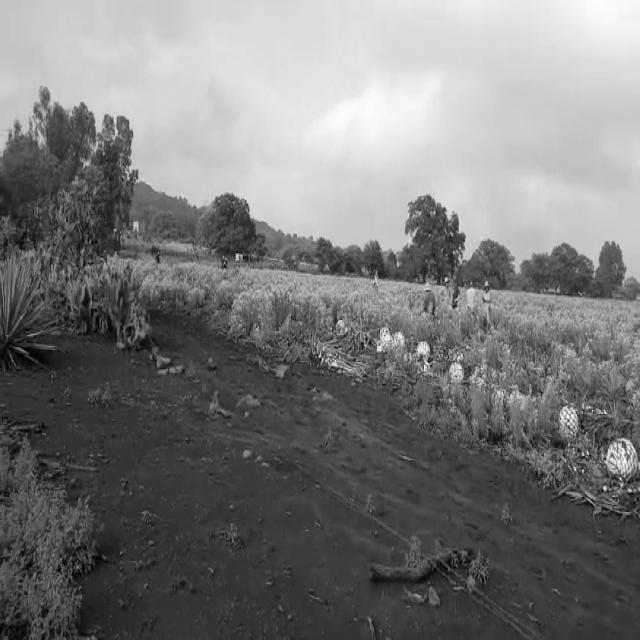agave: (605, 432, 640, 476), (556, 404, 582, 444), (417, 335, 432, 361), (449, 358, 465, 382), (395, 329, 409, 355), (379, 329, 392, 353), (334, 317, 346, 335)
